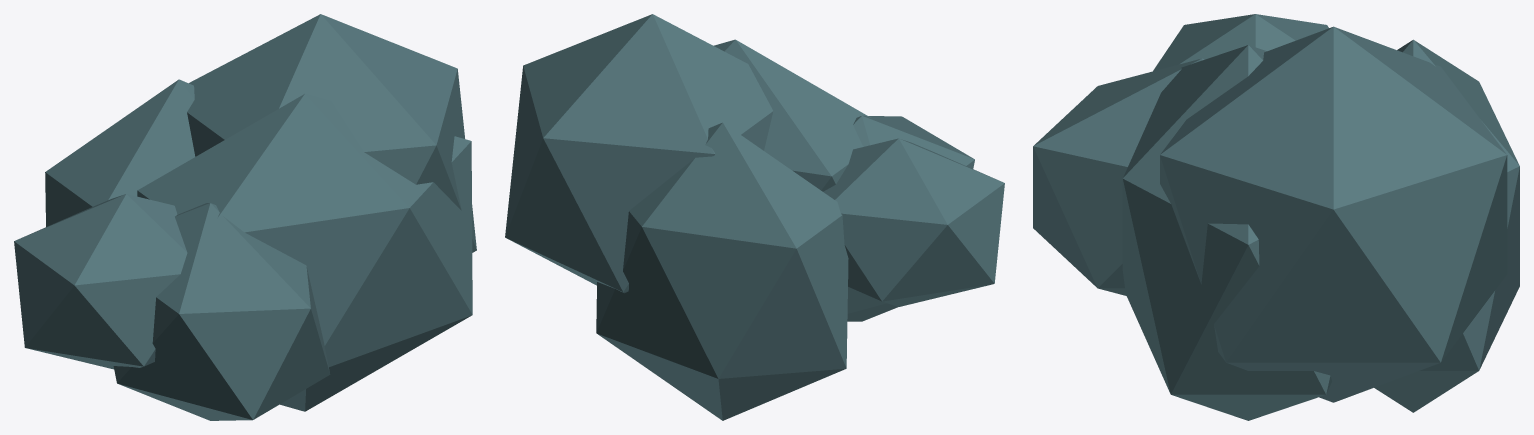
The model's file is rock-b.glb.
3 renders of one model, left to right at view 1: azimuth 30°, elevation 25°; view 2: azimuth 150°, elevation 25°; view 3: azimuth 270°, elevation 25°, orthographic. The views are drawn at different scales.
Parts seen in each view (by area): view 1: rock-b / Rock | blue slate; view 2: rock-b / Rock | blue slate; view 3: rock-b / Rock | blue slate.
Boxes of the visible parts, x1,y1,x2,y2 form: rock-b / Rock | blue slate: (14, 14, 476, 420); rock-b / Rock | blue slate: (505, 14, 1004, 420); rock-b / Rock | blue slate: (1033, 14, 1519, 420).
Size of the model in its own units: 3.52 by 2.74 by 2.69.
